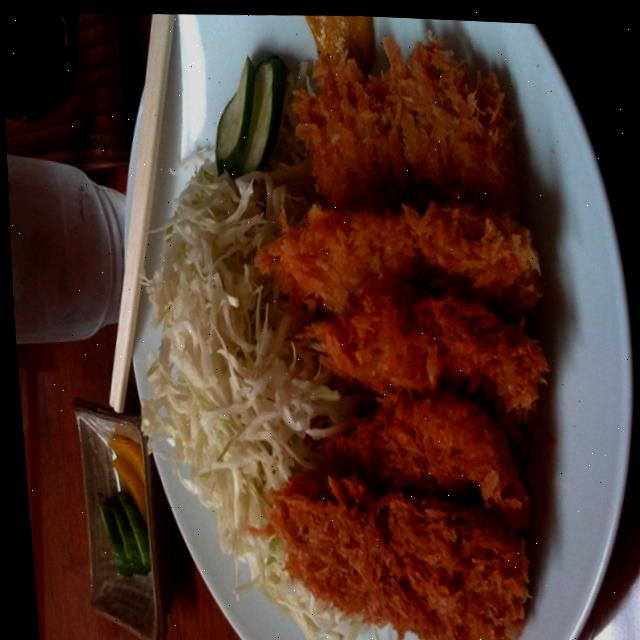牛肉菜式: (211, 10, 575, 640)
